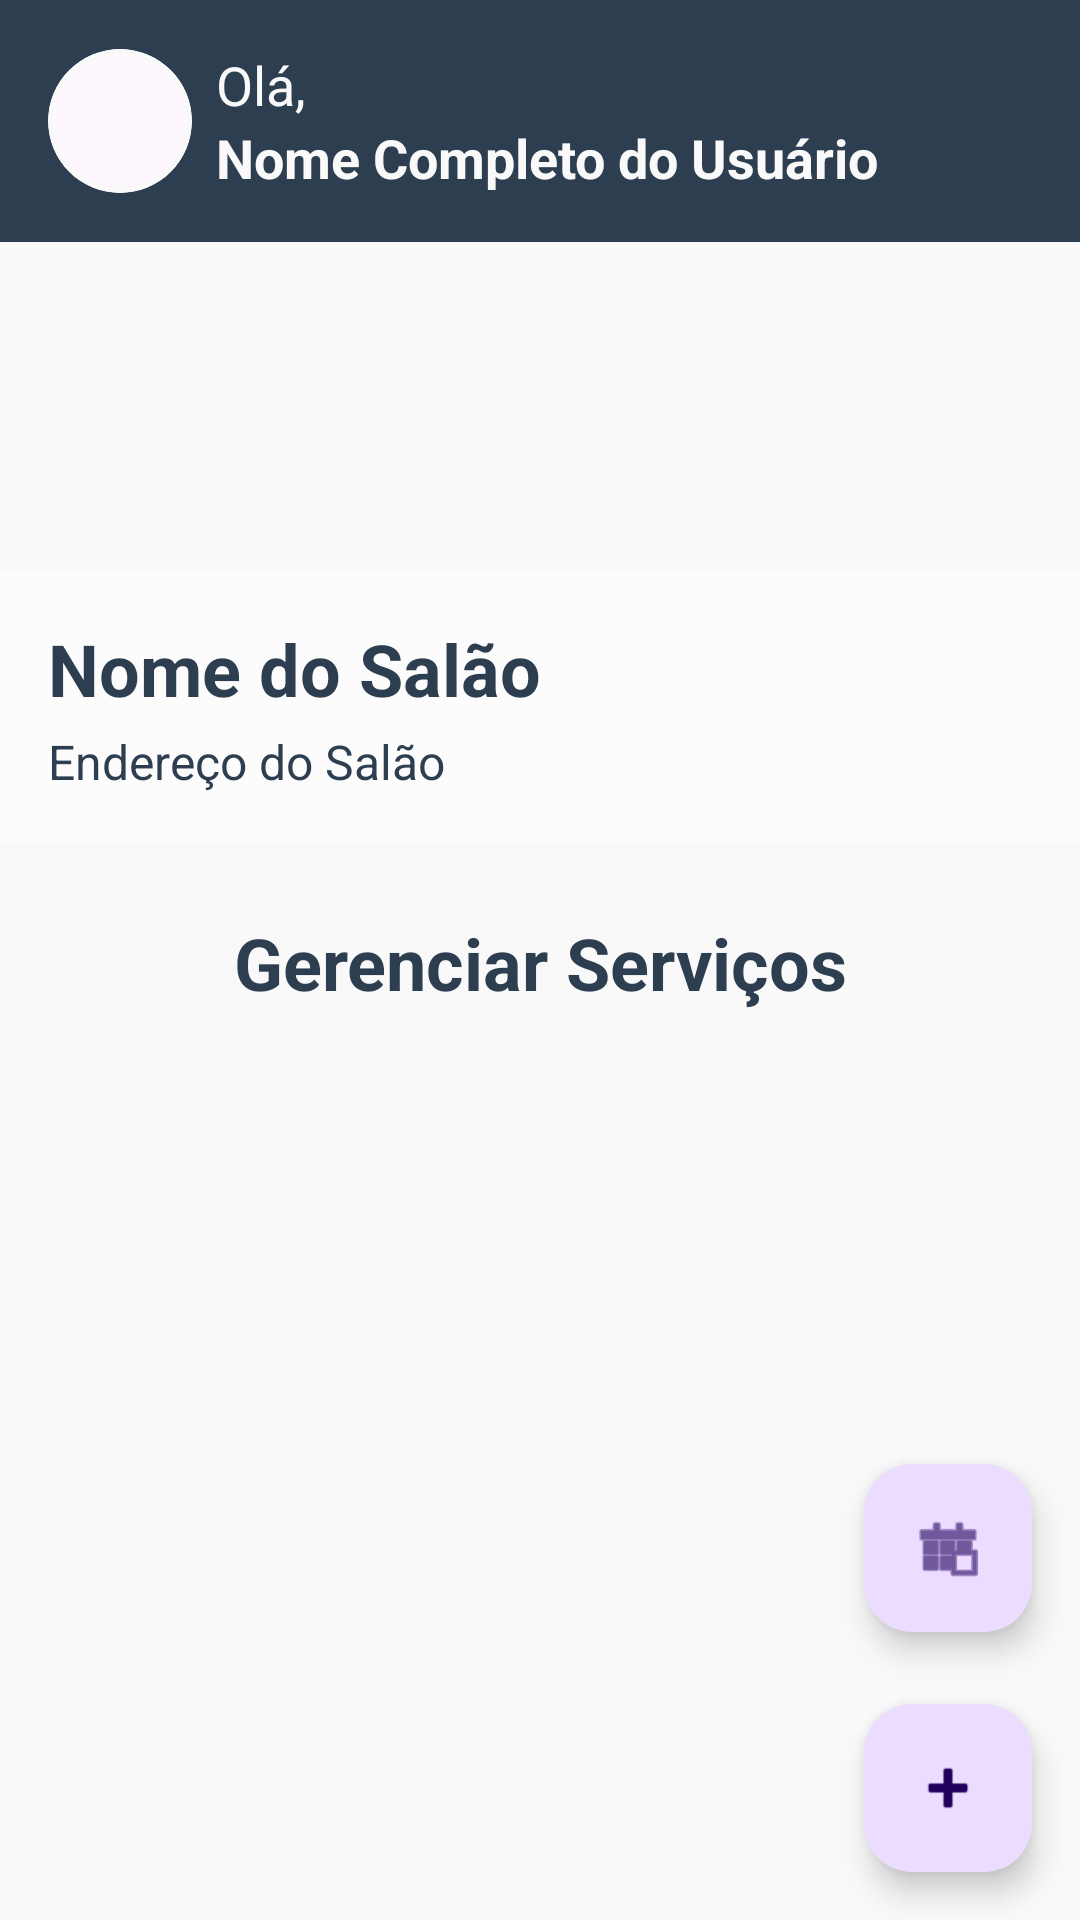

Icons on this 1080x1920 Android screen, each with its box as (x1, y1, x2, y2):
add: (864, 1704, 1032, 1872)
Definir horários: (918, 1521, 979, 1577)
